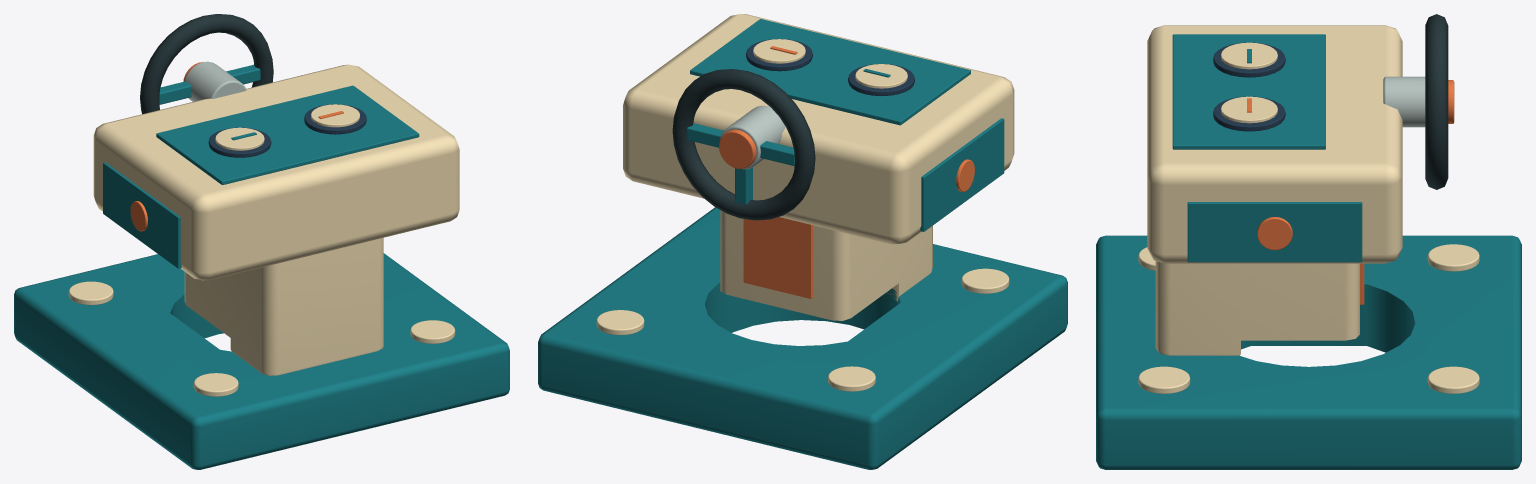
File: helm-lod-0.glb
3 renders of one model, left to right at view 1: azimuth 30°, elevation 25°; view 2: azimuth 150°, elevation 25°; view 3: azimuth 270°, elevation 25°, orthographic. The views are drawn at different scales.
Parts seen in each view (by area): view 1: helm_lod_0; view 2: helm_lod_0; view 3: helm_lod_0.
Boxes of the visible parts, x1,y1,x2,y2 form: helm_lod_0: (14,14,509,469); helm_lod_0: (538,14,1067,469); helm_lod_0: (1096,14,1521,469).
Size of the model in its own units: 1 by 0.937 by 1.
